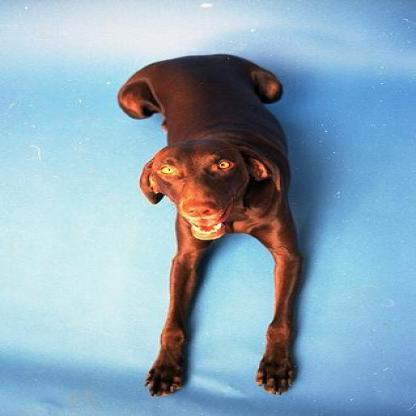vizsla: (111, 51, 302, 397)
